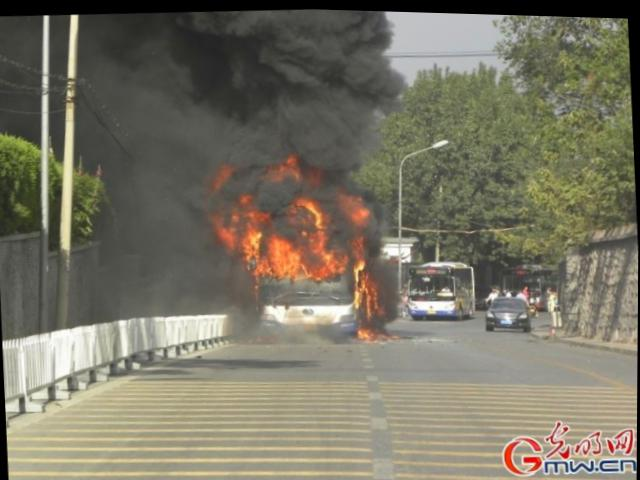fire: (213, 148, 393, 350)
